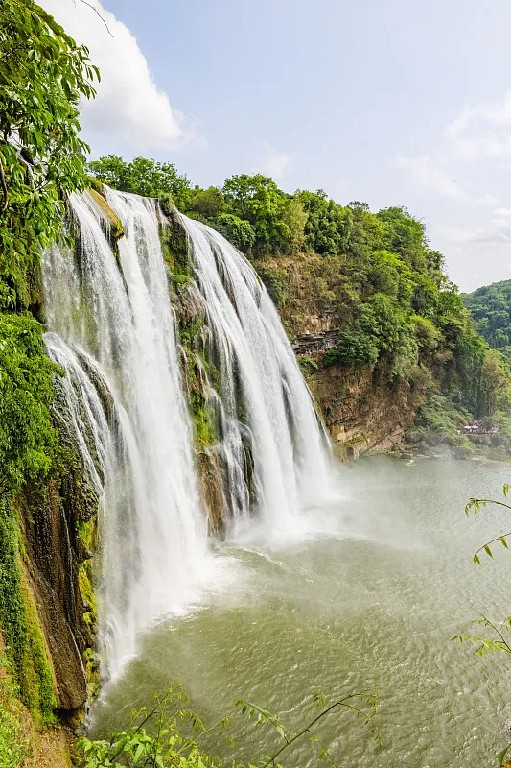Huangguoshu: (48, 189, 332, 692)
